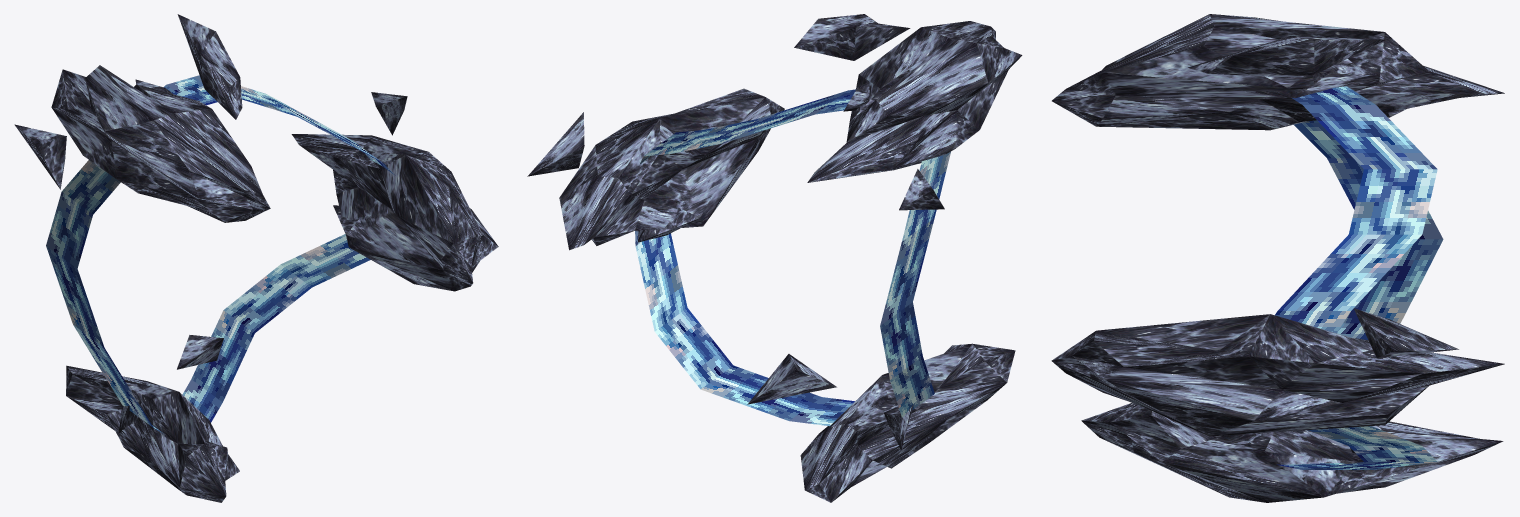
File: tx_common_bingdong_keep.obj
3 renders of one model, left to right at view 1: azimuth 30°, elevation 25°; view 2: azimuth 150°, elevation 25°; view 3: azimuth 270°, elevation 25°, orthographic. The views are drawn at different scales.
Visible parts, largest first — view 1: Ice10, Ice02, Cylinder01, Ice08; view 2: Ice10, Ice02, Cylinder01, Ice08; view 3: Ice02, Ice10, Cylinder01, Ice08.
Boxes of the visible parts, x1,y1,x2,y2 form: Ice10: (14, 14, 270, 222); Ice02: (291, 92, 498, 291); Cylinder01: (46, 75, 395, 434); Ice08: (66, 335, 239, 502); Ice10: (794, 14, 1022, 210); Ice02: (527, 88, 784, 250); Cylinder01: (635, 89, 950, 426); Ice08: (747, 343, 1015, 502); Ice02: (1051, 308, 1504, 436); Ice10: (1052, 14, 1504, 130); Cylinder01: (1275, 86, 1443, 469); Ice08: (1081, 403, 1503, 502).
Bounding box in the file's own units: 49.96 × 53.35 × 45.03.
Materials: 2 (2 with a texture image).
